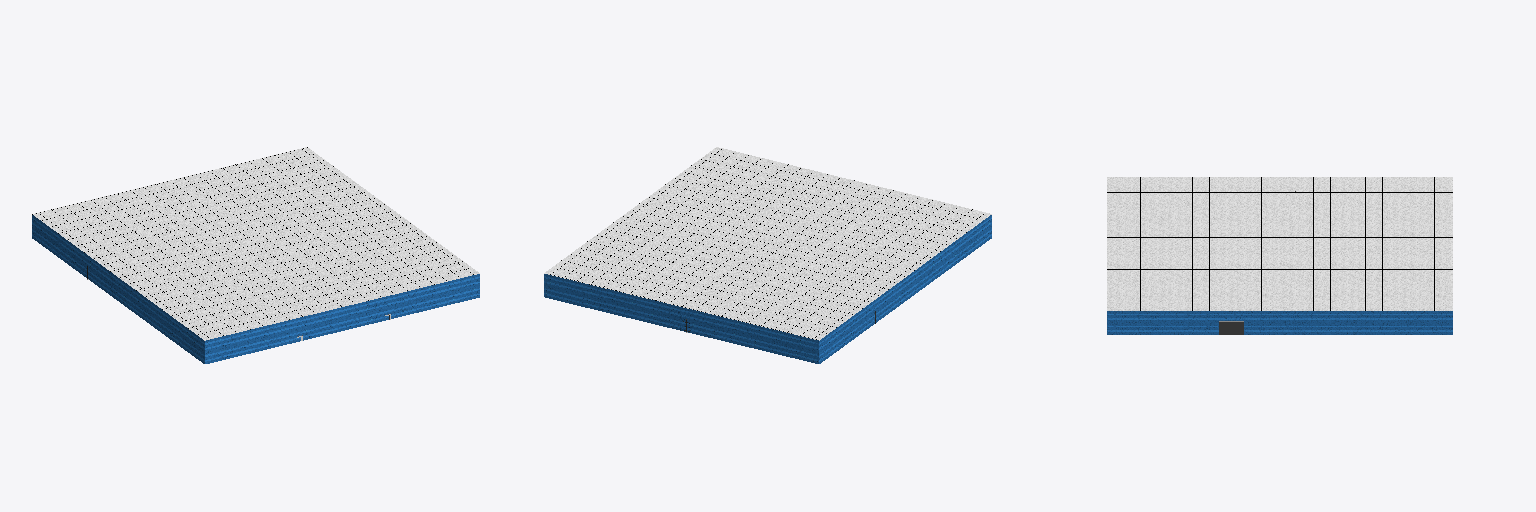
3 views of the same model, side by side, from view 1: azimuth 30°, elevation 25°; view 2: azimuth 150°, elevation 25°; view 3: azimuth 270°, elevation 25° (orthographic).
Parts seen in each view (by area): view 1: Cube.001_Cube.000; view 2: Cube.001_Cube.000; view 3: Cube.001_Cube.000.
Part boxes in pixels (x1,y1,x2,y2): Cube.001_Cube.000: (32,147,479,363); Cube.001_Cube.000: (544,147,991,363); Cube.001_Cube.000: (1107,177,1452,334).
Bounding box in the file's own units: 48.21 × 4.12 × 52.48.
32 materials, 13 textured.